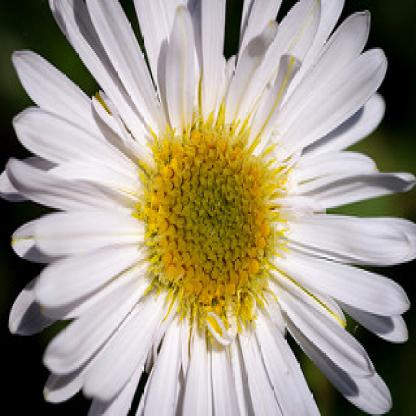ASTER: (13, 17, 401, 409)
